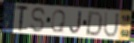D: (84, 11, 104, 38)
J: (68, 10, 83, 35)
Q: (50, 9, 67, 34)
S: (30, 6, 48, 34)
T: (15, 5, 30, 33)
U: (103, 11, 120, 39)
